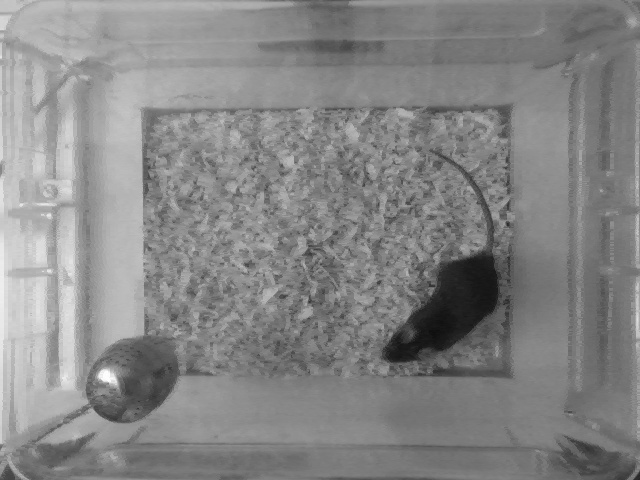mice: (379, 145, 503, 367)
